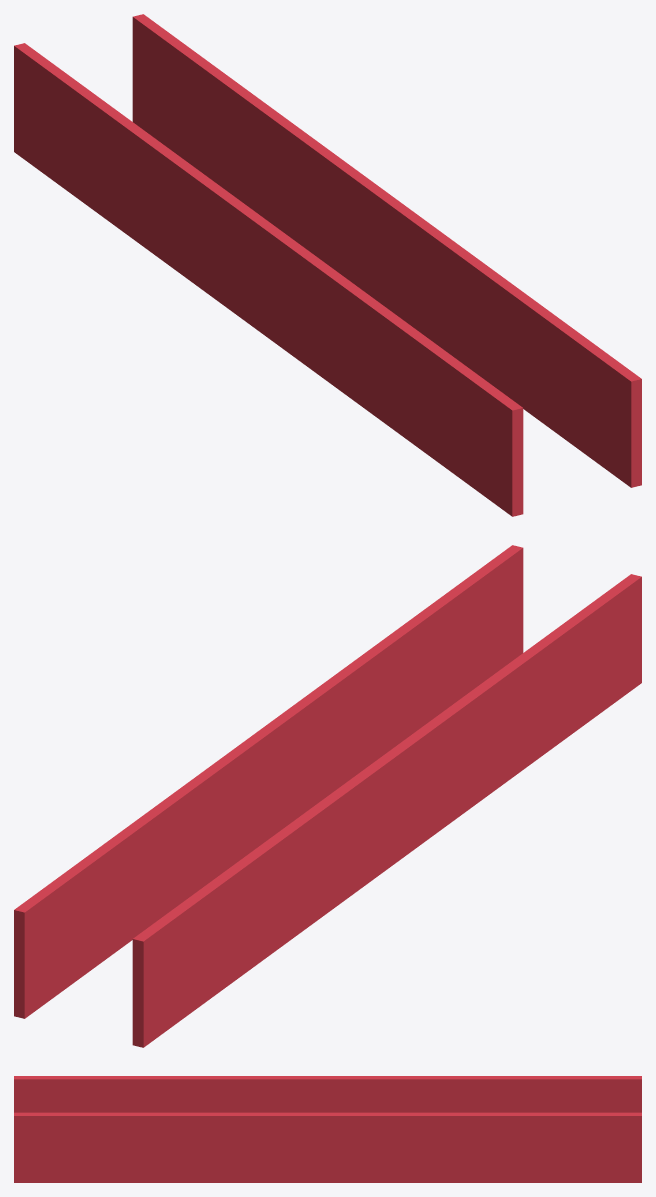
Rendered from straight_long_collision.fbx.
The picture shows the model from 3 angles, top to bottom: view 1: azimuth 30°, elevation 25°; view 2: azimuth 150°, elevation 25°; view 3: azimuth 270°, elevation 25°; orthographic projection. The views are drawn at different scales.
Parts seen in each view (by area): view 1: straight_long_collision.001; view 2: straight_long_collision.001; view 3: straight_long_collision.001.
Part boxes in pixels (left/top/right/bottom): straight_long_collision.001: left=14, top=14, right=641, bottom=516; straight_long_collision.001: left=14, top=545, right=641, bottom=1047; straight_long_collision.001: left=14, top=1076, right=641, bottom=1182.
Size of the model in its own units: 1200 by 941 by 8000.
